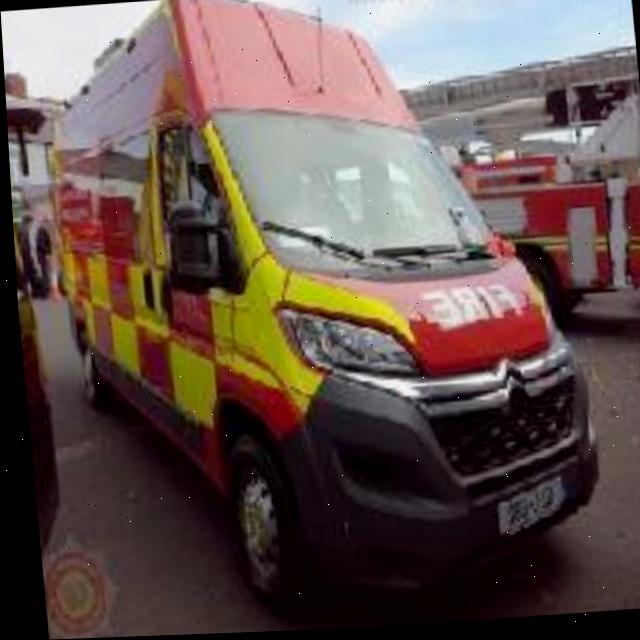emergency: (21, 0, 585, 610)
